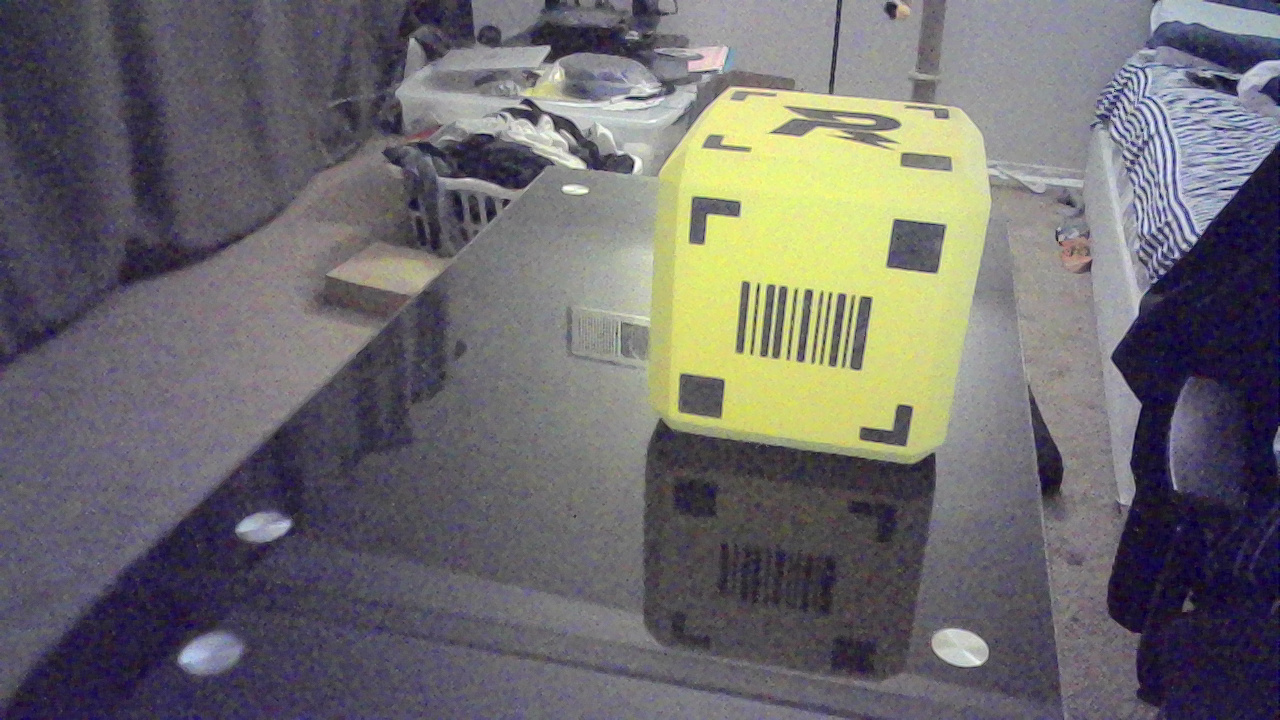Barcode: (746, 280, 874, 383)
R: (765, 103, 925, 161)
